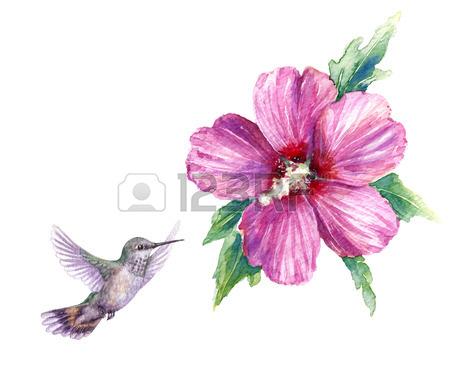Hibiscus: (185, 81, 415, 281)
